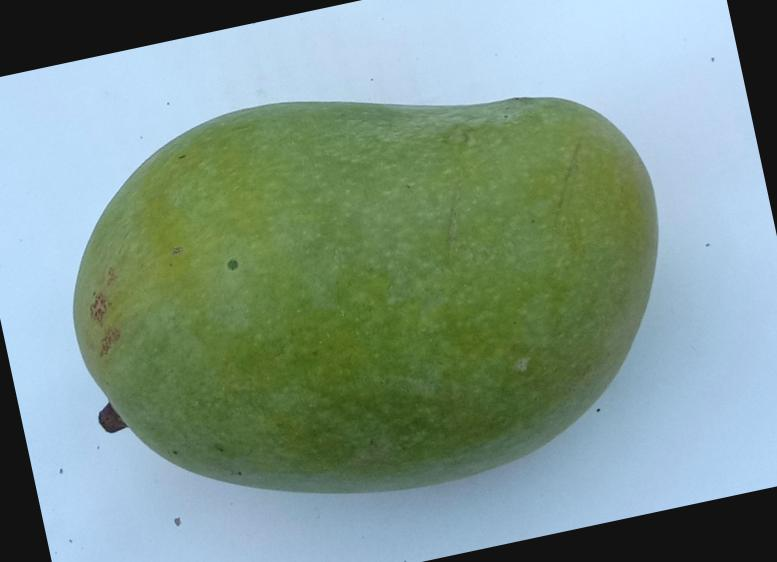Mango Unripe: (5, 8, 750, 562)
